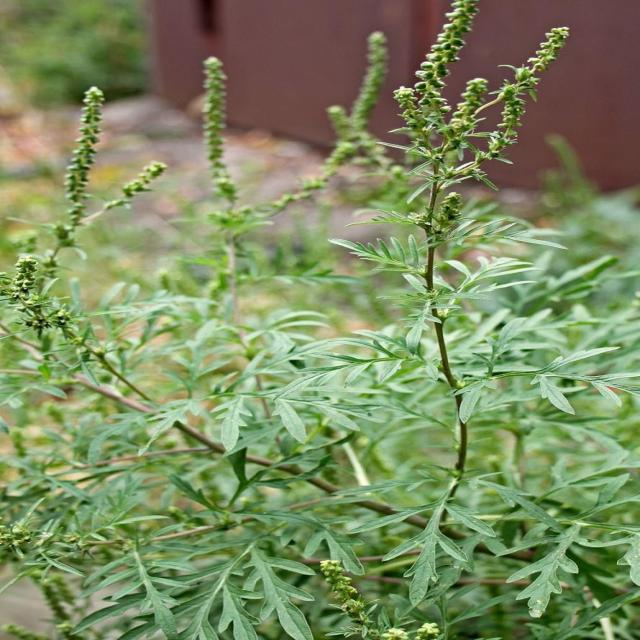ambrosia: (334, 4, 620, 279), (0, 49, 268, 274), (172, 308, 607, 443)
